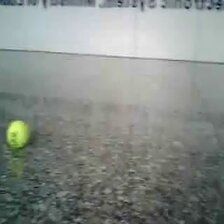tennis: (6, 119, 30, 149)
